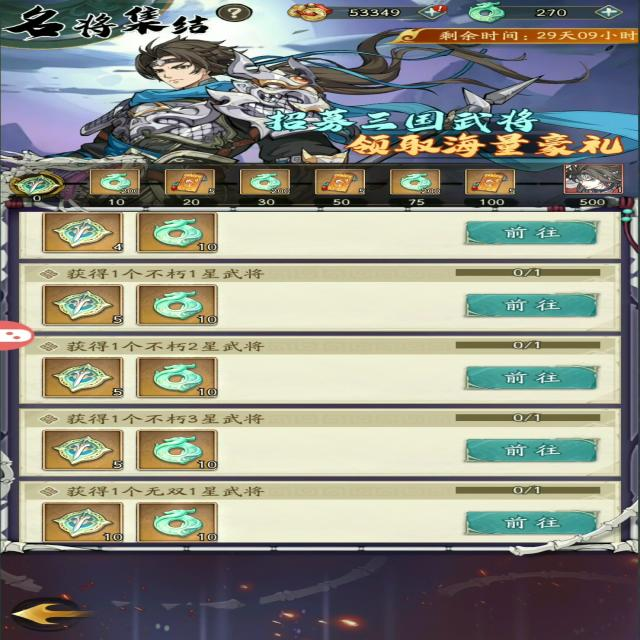hint-reddot: (430, 4, 455, 15)
operation-back: (8, 601, 95, 634)
operation-buy: (440, 436, 608, 466), (462, 508, 606, 538), (456, 218, 594, 246), (461, 364, 601, 390), (456, 292, 598, 316)
operation-rule: (207, 1, 272, 25)
ref-buytext: (54, 406, 284, 432), (42, 332, 276, 357), (49, 480, 271, 499), (47, 264, 281, 282)
